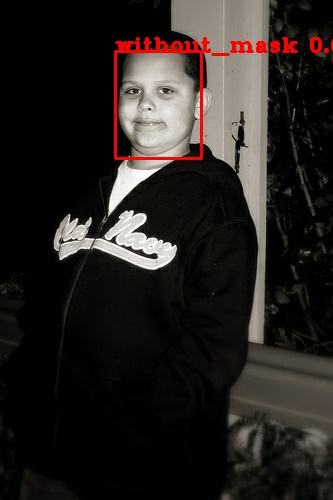without_mask: (115, 45, 214, 157)
